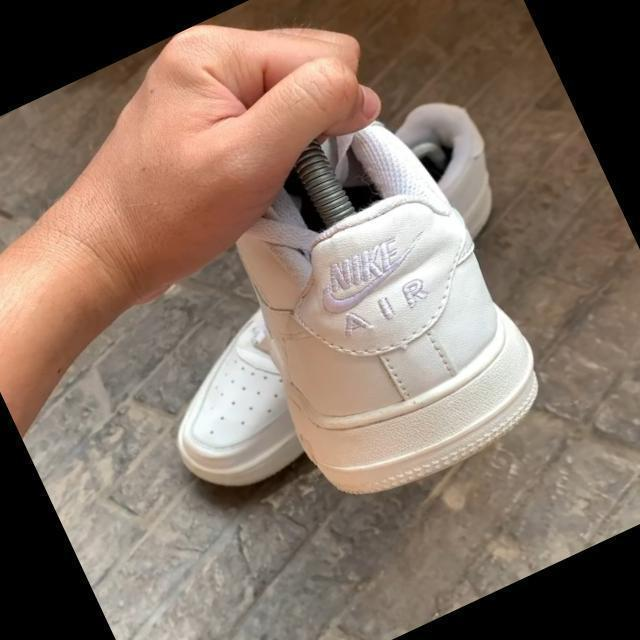nike fake air force: (186, 102, 562, 520)
